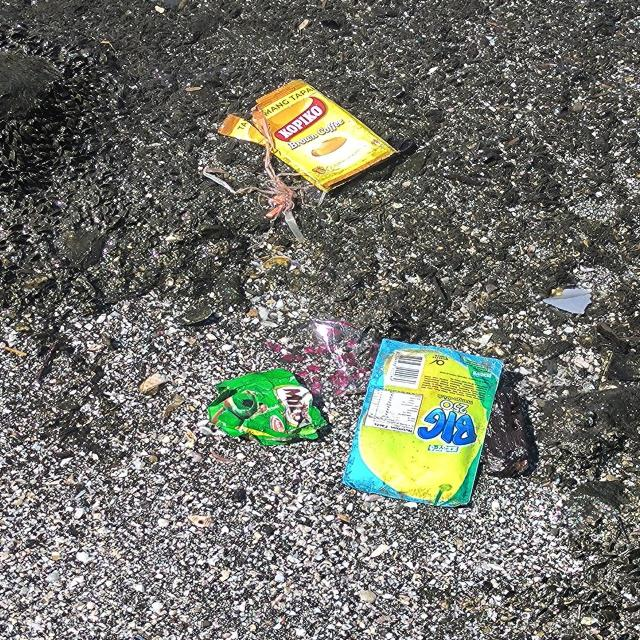litter: (340, 337, 504, 509), (216, 77, 402, 194), (206, 367, 330, 446)
